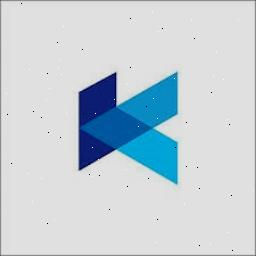k: (47, 54, 199, 188)
